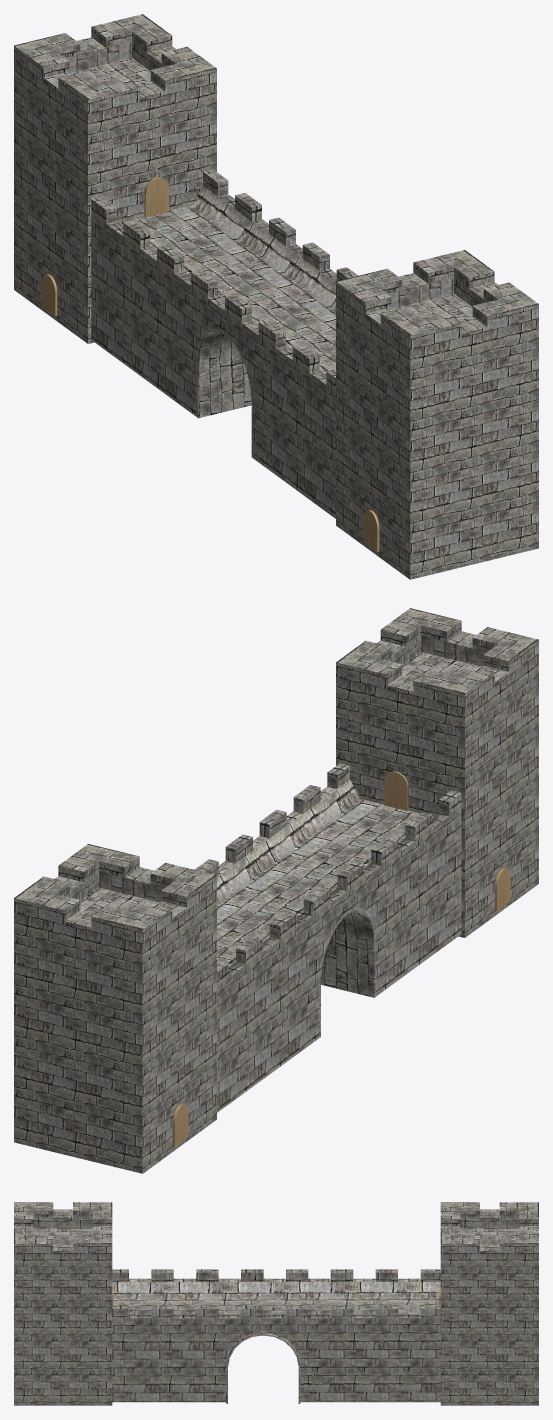
The model's file is castle1.fbx.
3 views of the same model, one above another, from view 1: azimuth 30°, elevation 25°; view 2: azimuth 150°, elevation 25°; view 3: azimuth 270°, elevation 25° (orthographic). The views are drawn at different scales.
Parts seen in each view (by area): view 1: wall2; view 2: wall2; view 3: wall2.
Boxes of the visible parts, <box> form: wall2: <box>14,14,538,579</box>; wall2: <box>14,608,538,1173</box>; wall2: <box>14,1202,538,1405</box>.
Size of the model in its own units: 245 by 433 by 1273.
